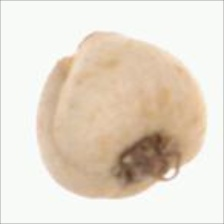L3: (53, 30, 105, 67)
L4: (36, 31, 207, 199)
